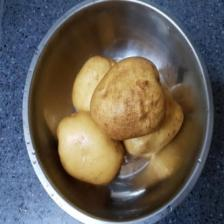Potato: (89, 54, 168, 140), (56, 111, 128, 188), (122, 81, 184, 159), (70, 55, 126, 117)
